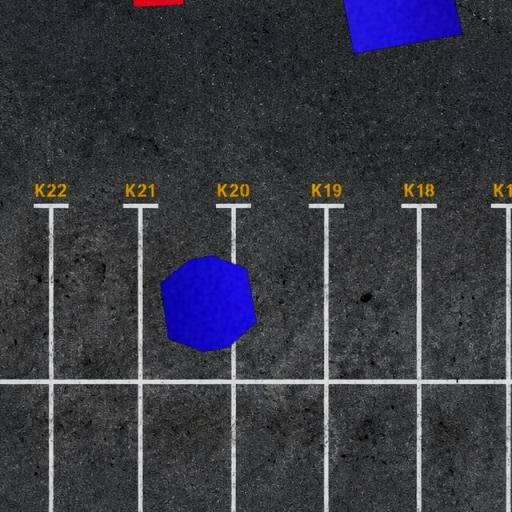BLUE_SQUARE: (333, 0, 463, 54)
